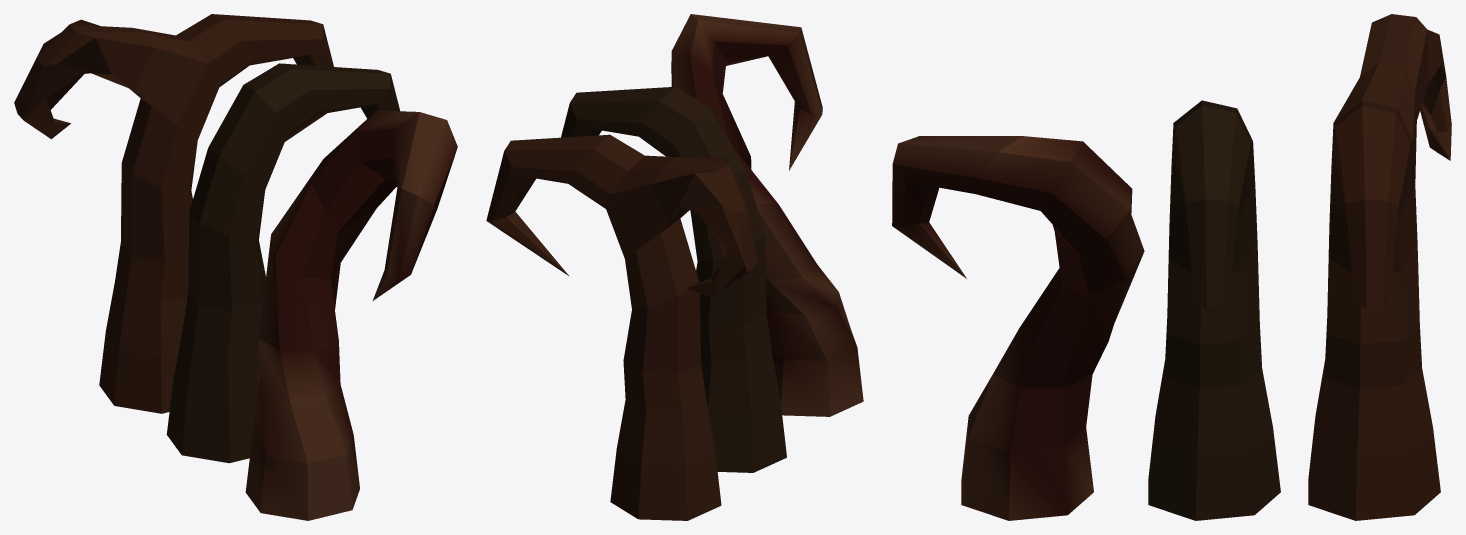
Rendered from arboles.fbx.
3 renders of one model, left to right at view 1: azimuth 30°, elevation 25°; view 2: azimuth 150°, elevation 25°; view 3: azimuth 270°, elevation 25°, orthographic. The views are drawn at different scales.
Visible parts, largest first — view 1: Arbol 1.002, Arbol 1, Arbol 1.001; view 2: Arbol 1, Arbol 1.002, Arbol 1.001; view 3: Arbol 1, Arbol 1.002, Arbol 1.001.
Boxes of the visible parts, <box> form: Arbol 1.002: <box>245,110,457,520</box>; Arbol 1: <box>14,14,333,413</box>; Arbol 1.001: <box>166,63,399,463</box>; Arbol 1: <box>486,134,757,520</box>; Arbol 1.002: <box>671,14,863,416</box>; Arbol 1.001: <box>561,86,786,472</box>; Arbol 1: <box>1308,14,1451,520</box>; Arbol 1.002: <box>892,136,1144,520</box>; Arbol 1.001: <box>1148,100,1280,520</box>.
Bounding box in the file's own units: 579 × 689 × 802.
